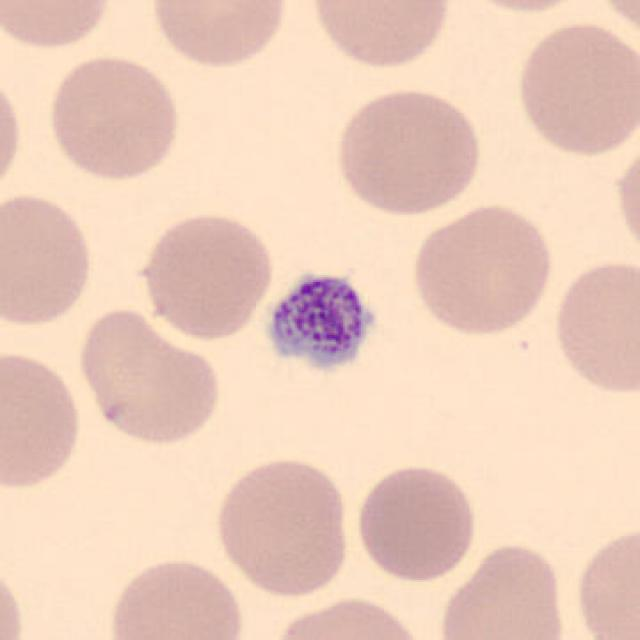Platelets: (259, 264, 377, 378)
RBC: (73, 303, 226, 450), (210, 453, 354, 600), (407, 199, 558, 339), (331, 82, 485, 218), (135, 208, 277, 342), (43, 51, 185, 183), (512, 18, 636, 160), (352, 460, 482, 586), (0, 188, 98, 332), (433, 539, 572, 640), (548, 254, 638, 398), (103, 552, 249, 640), (0, 345, 85, 493), (304, 0, 457, 72), (146, 0, 293, 71), (569, 520, 638, 640), (268, 592, 431, 640), (0, 0, 116, 53), (610, 133, 640, 264), (0, 69, 25, 203), (448, 0, 596, 16), (0, 555, 28, 639), (586, 0, 640, 42)
